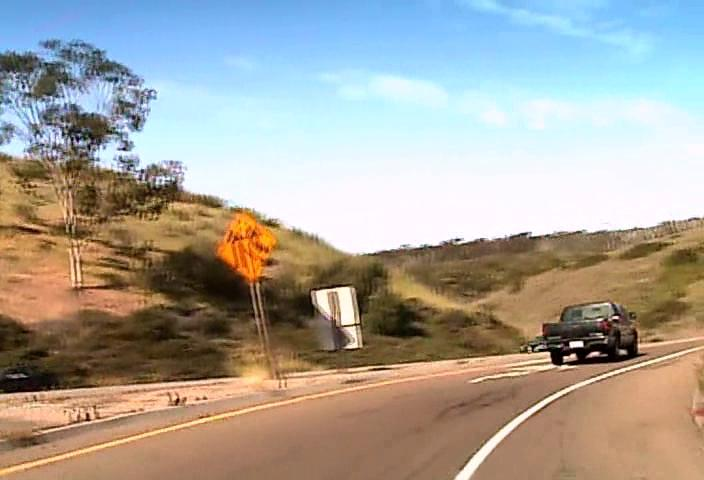addedLane: (215, 209, 276, 282)
